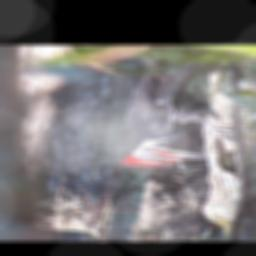Woodpecker: (116, 51, 253, 167)
